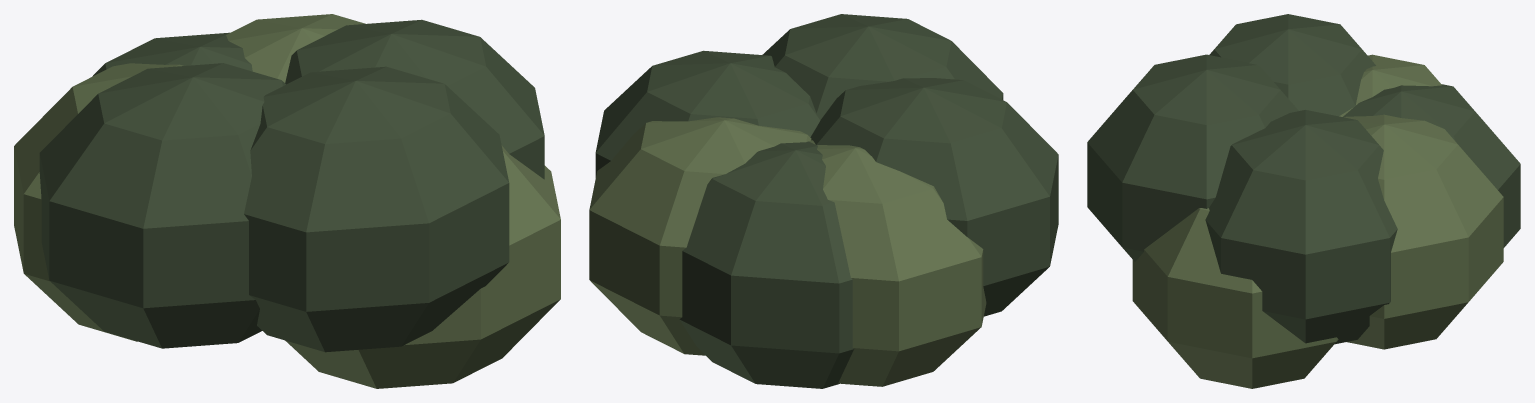
File: Bush_03.glb
3 views of the same model, side by side, from view 1: azimuth 30°, elevation 25°; view 2: azimuth 150°, elevation 25°; view 3: azimuth 270°, elevation 25° (orthographic). The views are drawn at different scales.
Visible parts, largest first — view 1: Bush_03; view 2: Bush_03; view 3: Bush_03.
Boxes of the visible parts, <box> form: Bush_03: <box>14,14,560,388</box>; Bush_03: <box>589,14,1058,388</box>; Bush_03: <box>1087,14,1520,388</box>.
Size of the model in its own units: 1.41 by 0.9085 by 1.31.
